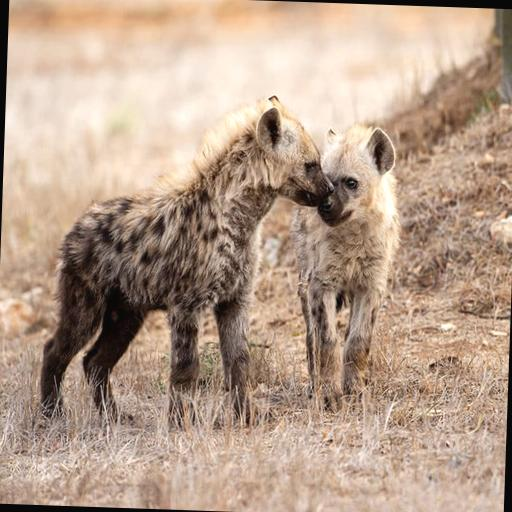hyenas: (16, 71, 412, 452)
